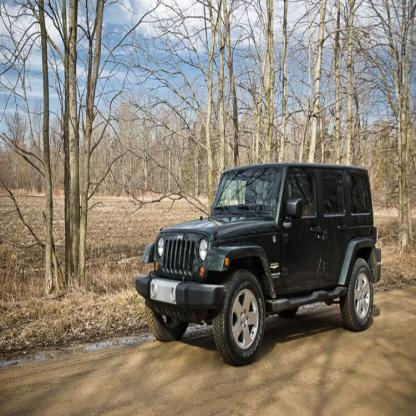Vehicle: (132, 160, 384, 370)
